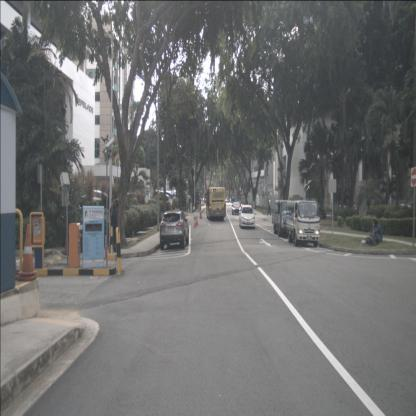cone: (18, 223, 38, 276), (61, 226, 71, 255), (104, 233, 108, 260), (194, 216, 197, 228), (196, 216, 198, 226), (200, 210, 202, 218)
